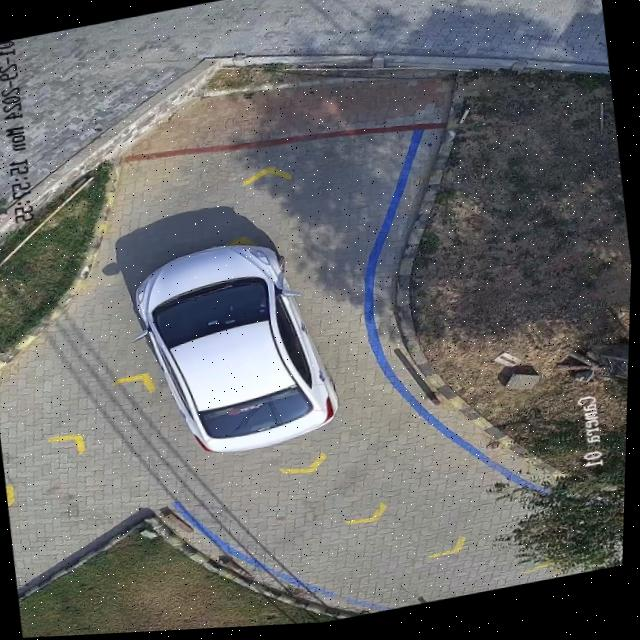car: (132, 243, 346, 456)
